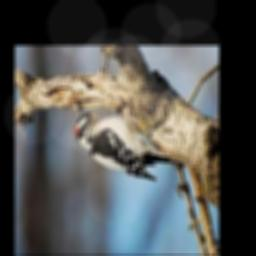Woodpecker: (75, 107, 183, 180)
